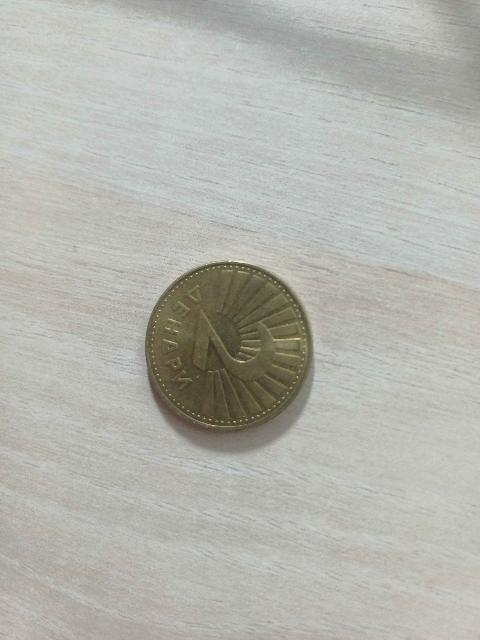2_coin: (146, 262, 312, 429)
